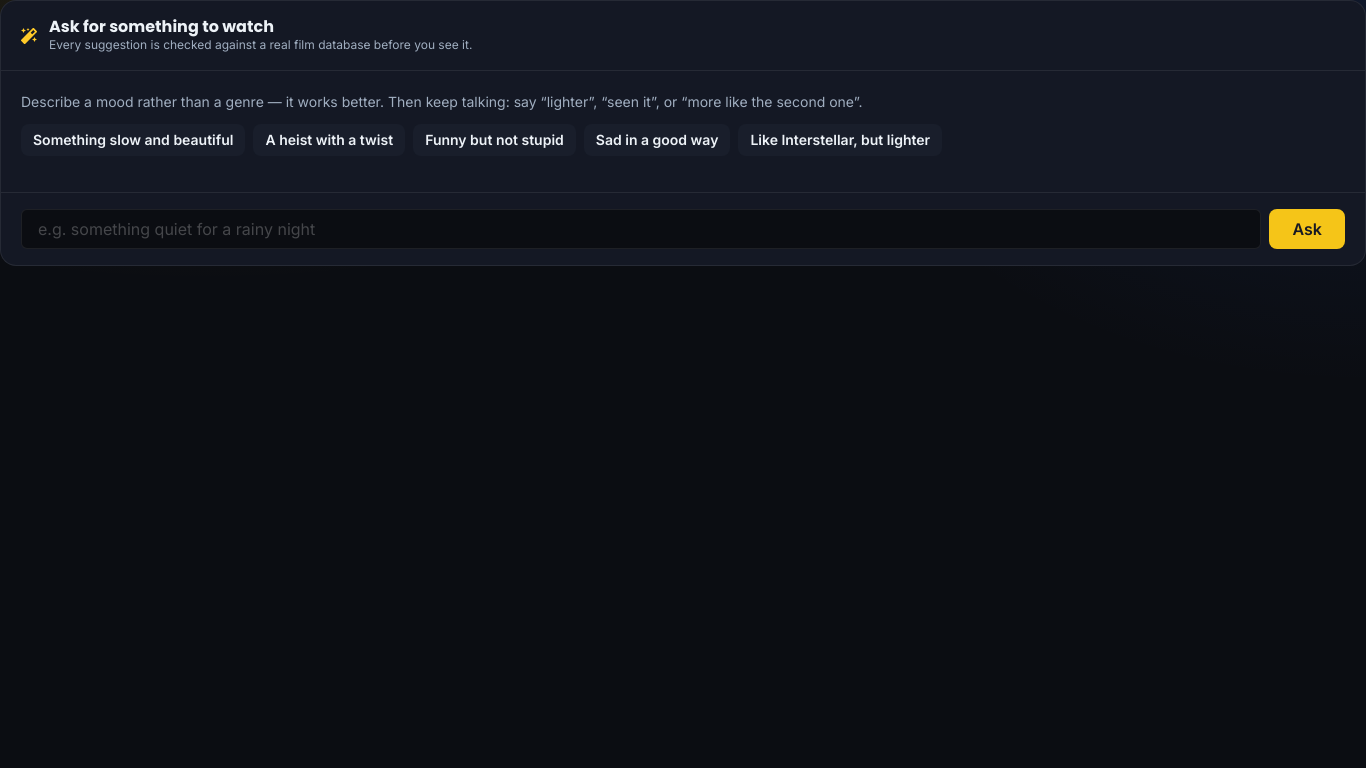
it: the recommendation conversation › keeps the thread so a follow-up refines rather than restarts
Click the button "Funny but not stupid" at {"x": 494, "y": 140}, box x1=413 y1=124 x2=576 y2=156
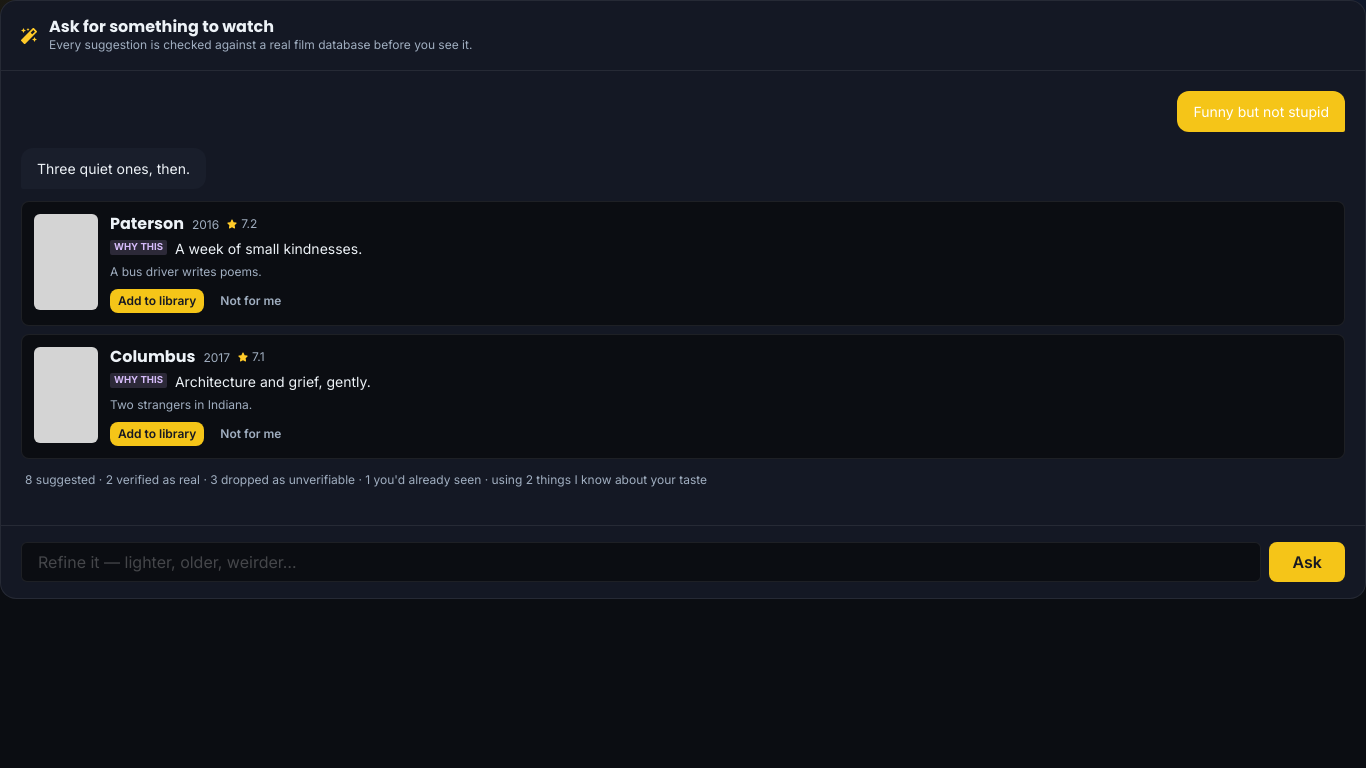
Now the text "Three quiet ones, then." is shown, box x1=37 y1=158 x2=190 y2=179
Type "lighter than that" into the field named "Describe what you want to watch" at {"x": 641, "y": 562}, box x1=21 y1=542 x2=1262 y2=582
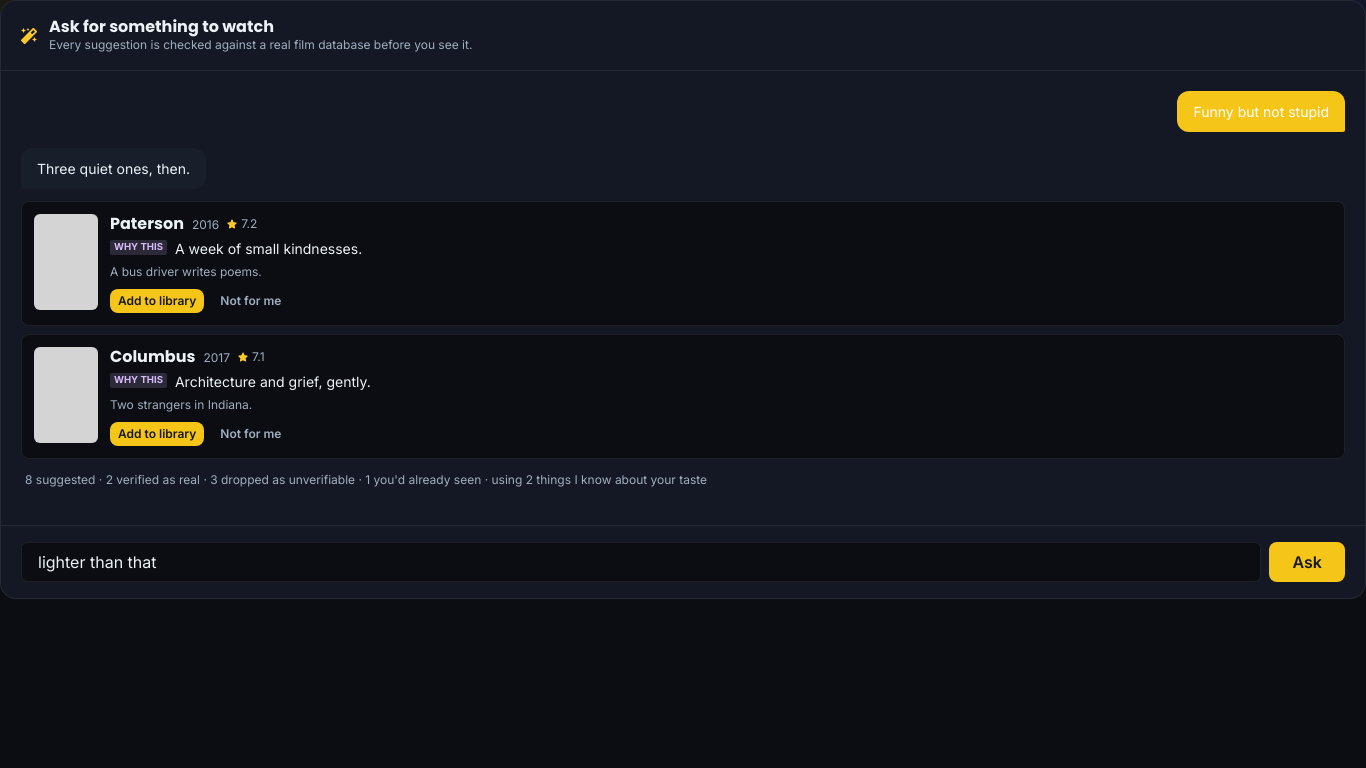
Click the button "Ask" at {"x": 1307, "y": 562}, box x1=1270 y1=542 x2=1345 y2=582
(page scrolled)
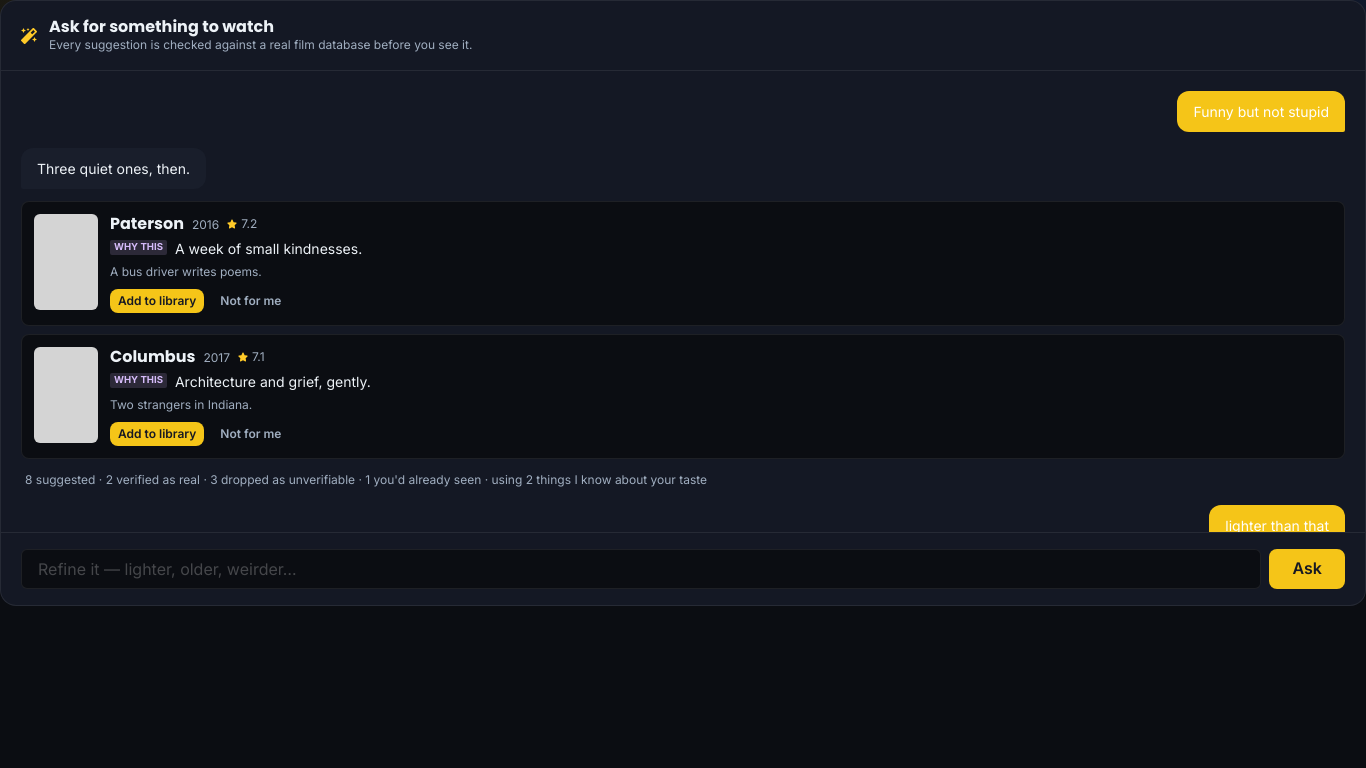
Expected: the text "Funny but not stupid" is shown, x1=1193 y1=101 x2=1329 y2=122
Now the text "lighter than that" is shown, box x1=1225 y1=515 x2=1329 y2=532
